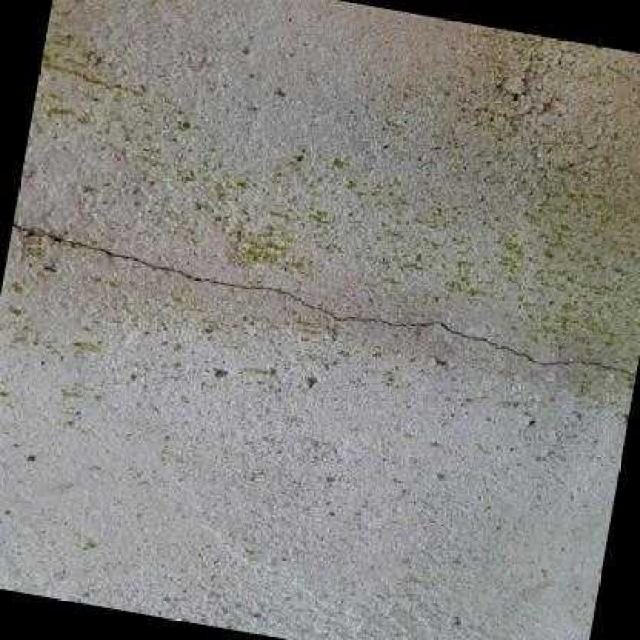D00: (11, 215, 636, 375)
